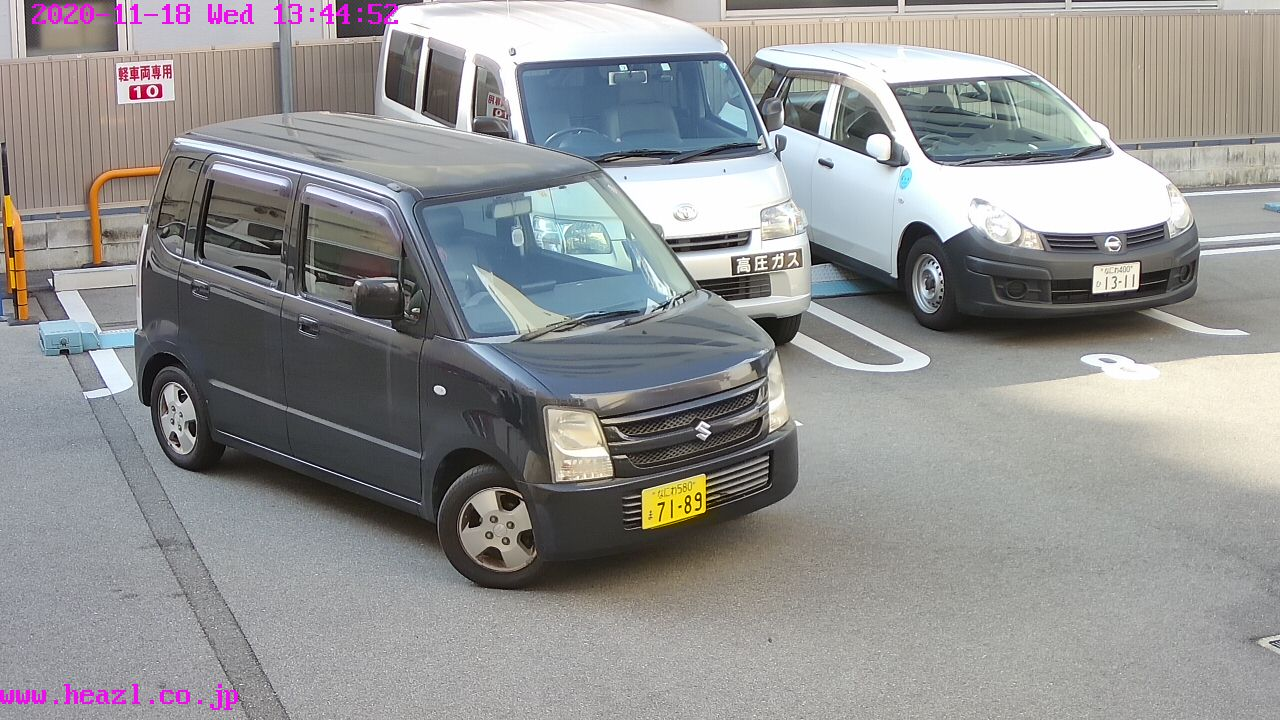number_plate: (639, 484, 708, 521), (1091, 262, 1139, 292)
